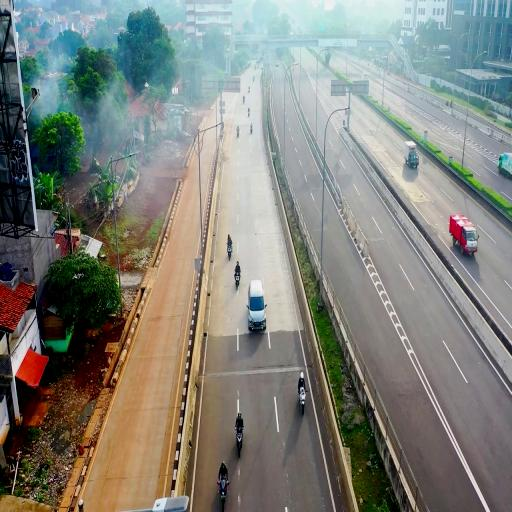vehicle: (449, 213, 478, 256), (248, 278, 266, 330), (497, 152, 512, 179), (404, 144, 418, 170)
